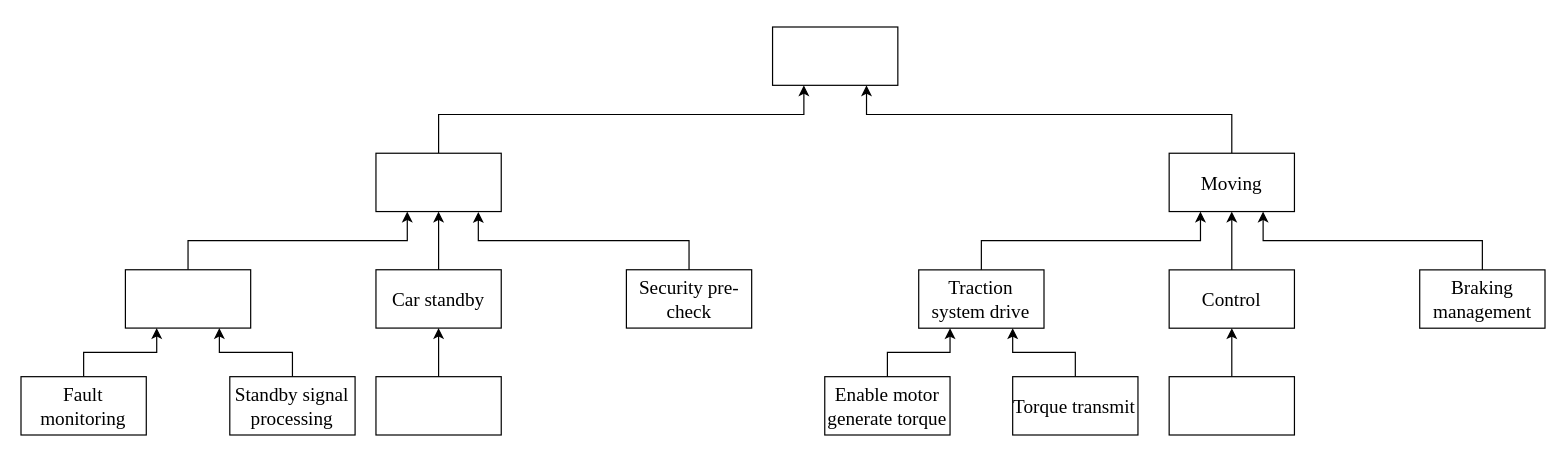
The diagram is 1566 pixels wide and 456 high, and some of its shapes have lost their labels. Here are the shapes that lost their labels. From the top down, the box of each, then its label:
(771, 26, 898, 85): Transportation passergers from floor A to floor B
(375, 152, 501, 212): Standing
(124, 269, 251, 328): Control system standby
(375, 375, 501, 435): Levelling
(1168, 375, 1294, 435): Motor control
